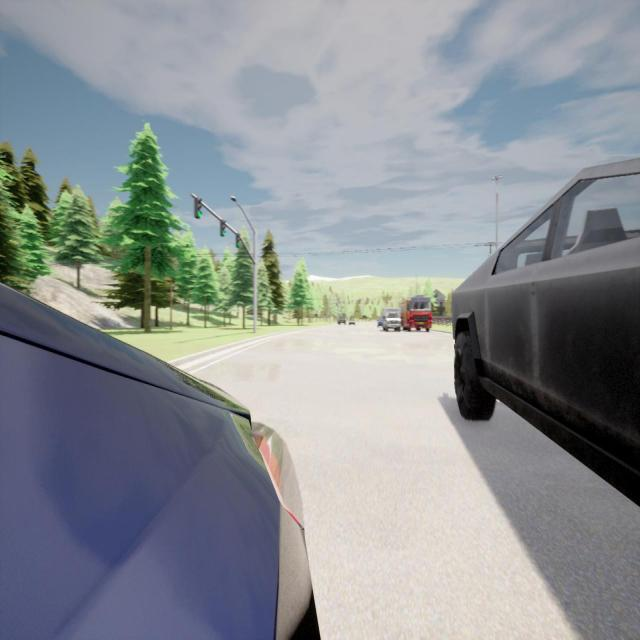Vehicle: (0, 278, 320, 640), (454, 155, 640, 504), (399, 296, 433, 332), (376, 308, 402, 326), (382, 312, 402, 332), (348, 314, 357, 326), (337, 314, 346, 325)
traffic_light: (194, 196, 202, 220), (220, 218, 227, 238), (236, 232, 242, 249)
